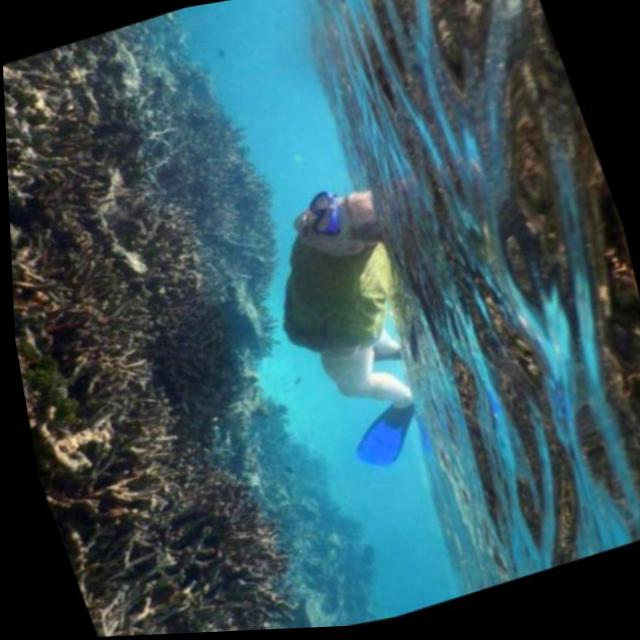Dead Coral: (1, 18, 364, 640)
